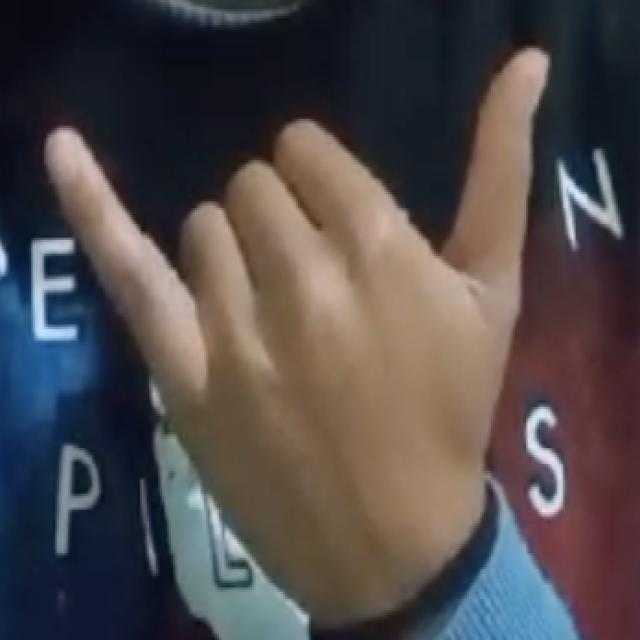Y: (38, 36, 576, 582)
